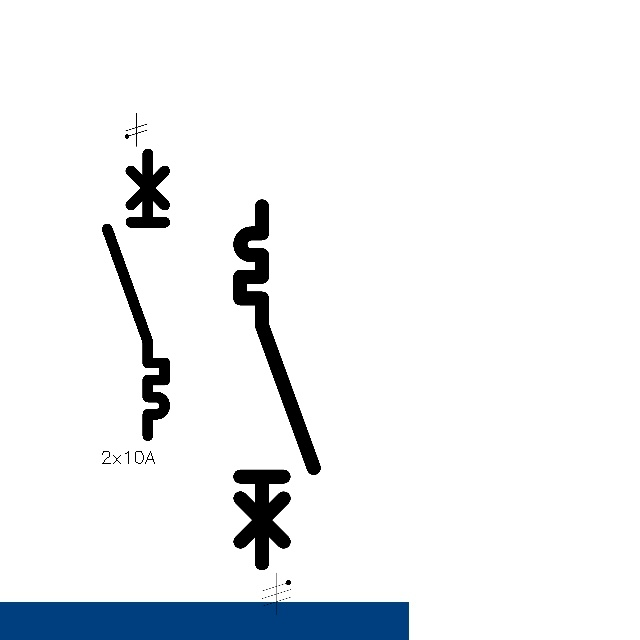interruptor_termomagnetico: (231, 197, 323, 573), (100, 146, 172, 442)
